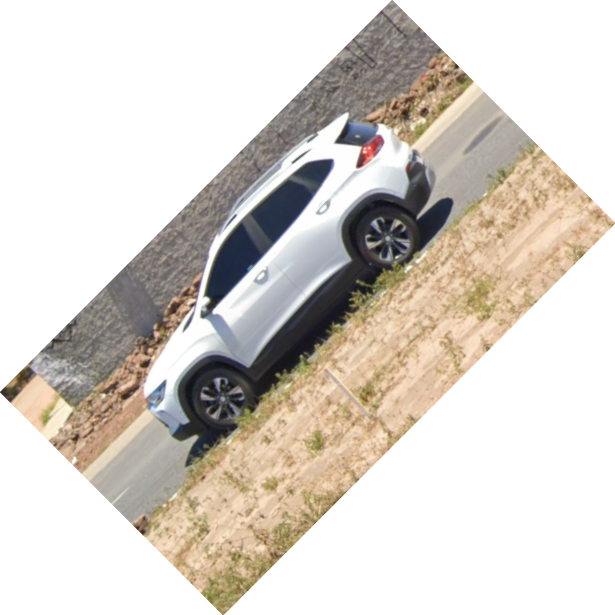car: (136, 109, 437, 442)
